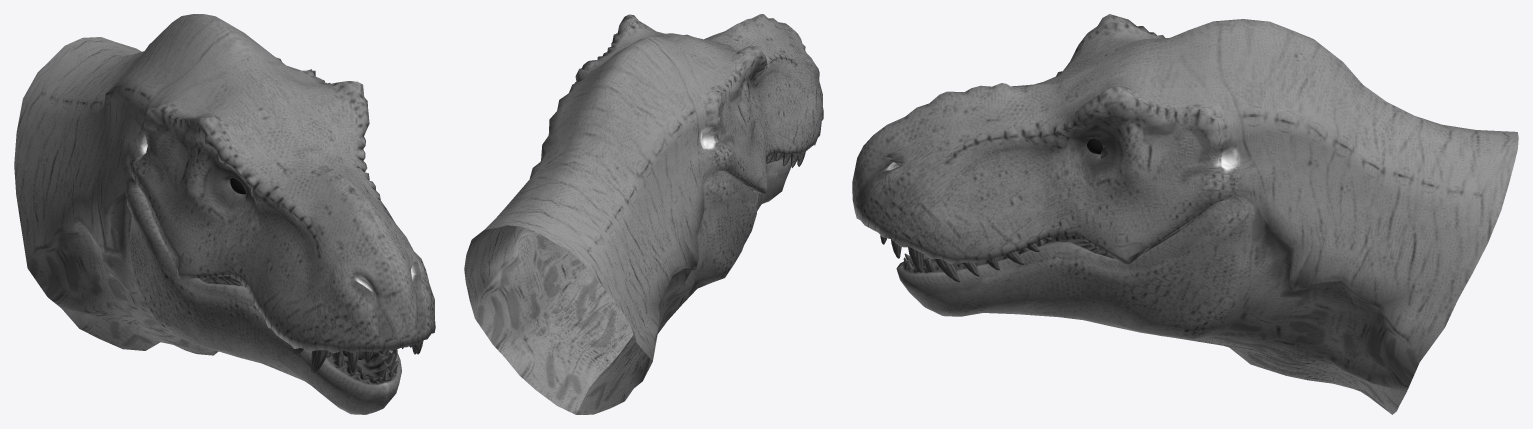
Rendered from Dino.obj.
3 renders of one model, left to right at view 1: azimuth 30°, elevation 25°; view 2: azimuth 150°, elevation 25°; view 3: azimuth 270°, elevation 25°, orthographic. The views are drawn at different scales.
Visible parts, largest first — view 1: 000-0-0-0; view 2: 000-0-0-0; view 3: 000-0-0-0.
Part boxes in pixels (bbox=[...]): 000-0-0-0: bbox=[14, 14, 435, 414]; 000-0-0-0: bbox=[464, 14, 823, 414]; 000-0-0-0: bbox=[852, 14, 1518, 414].
Size of the model in its own units: 126 by 222 by 342.
1 material, 1 textured.
